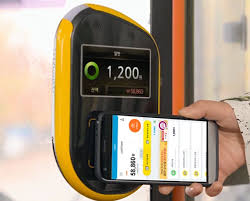terminal: (51, 3, 166, 201)
